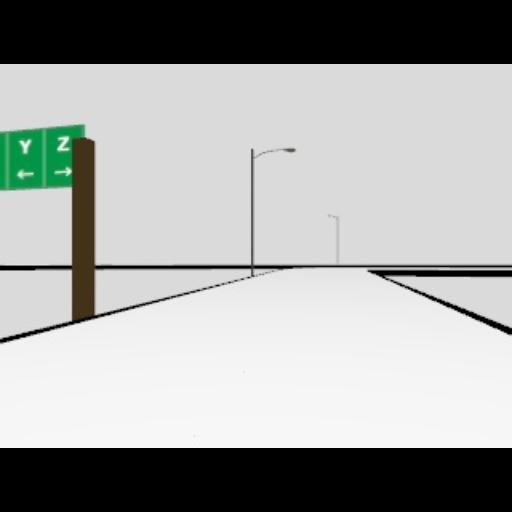Left: (16, 168, 36, 180)
Right: (52, 166, 72, 176)
Y: (18, 138, 32, 154)
Z: (56, 134, 70, 150)
